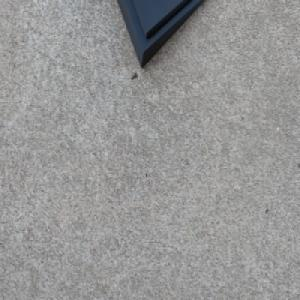PlasticPart: (114, 0, 208, 72)
